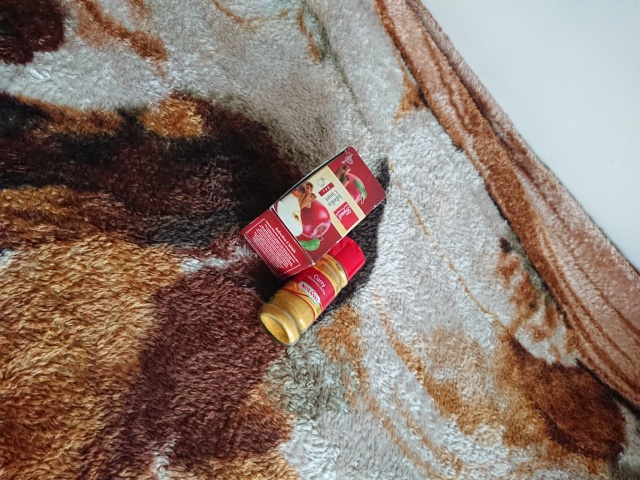Franck Apple Cinnamon Tea 60g: (237, 141, 391, 285)
Kotanyi Curry Spices Mix 70g: (254, 232, 368, 351)
